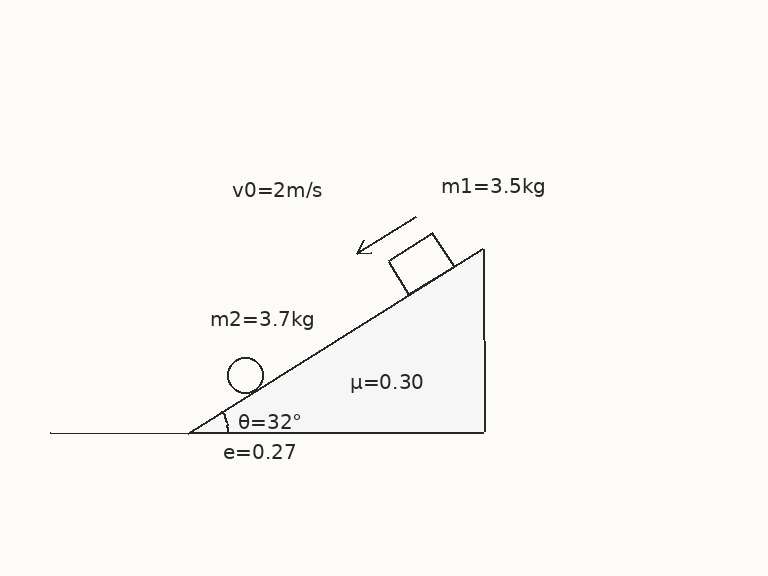ball: (225, 355, 265, 395)
block: (385, 231, 455, 296)
ramp: (186, 246, 484, 434)
